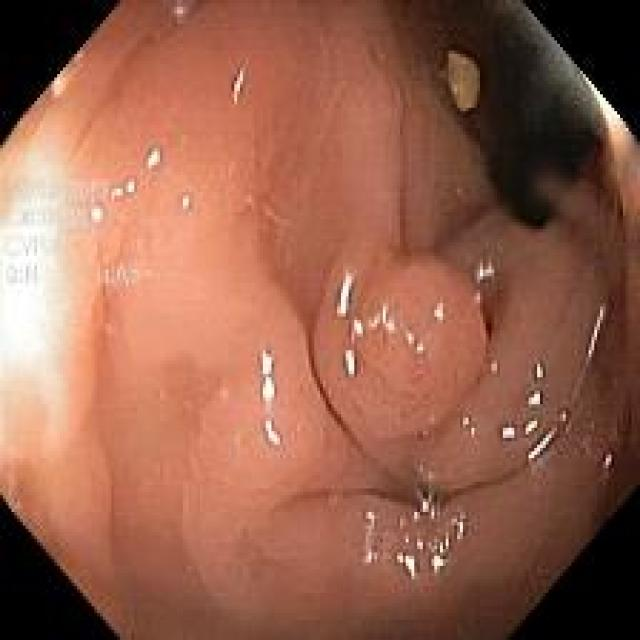Polyps: (312, 253, 488, 468)
